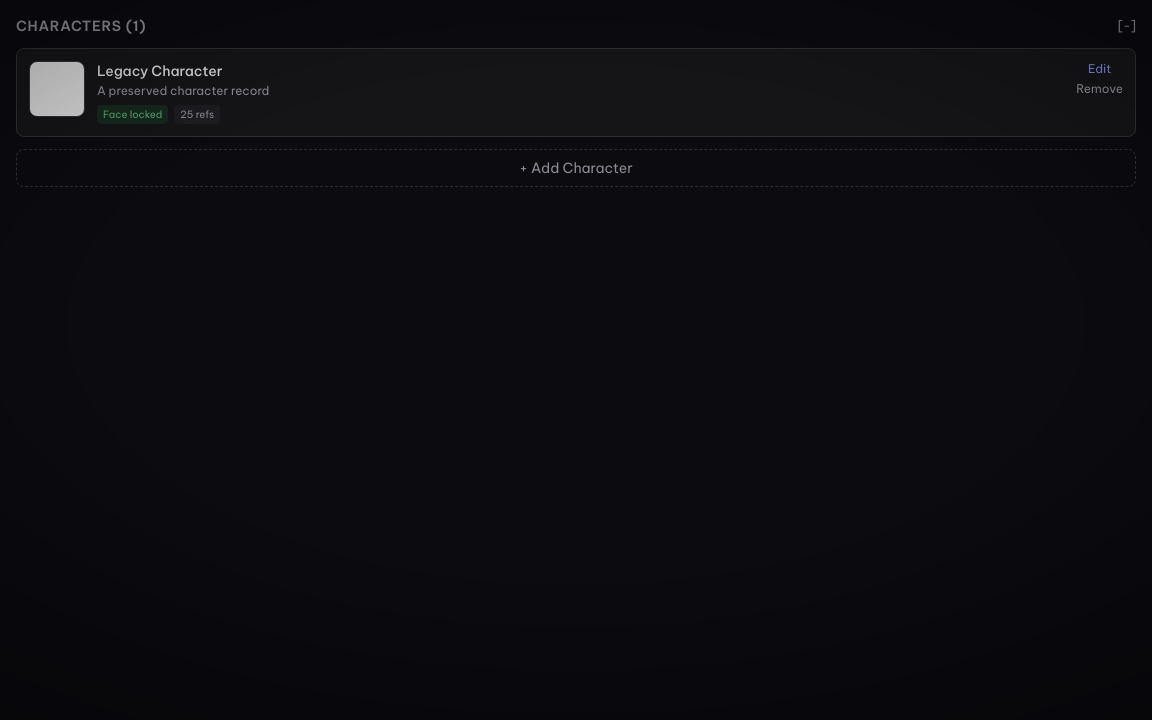
CharacterPanel -- truthful character mutations › surfaces a rejected JSON edit, keeps the editor open, and does not refresh
The image size is (1152, 720).
Click the button "Edit". click: [1100, 69]
box: [1076,61,1123,77]
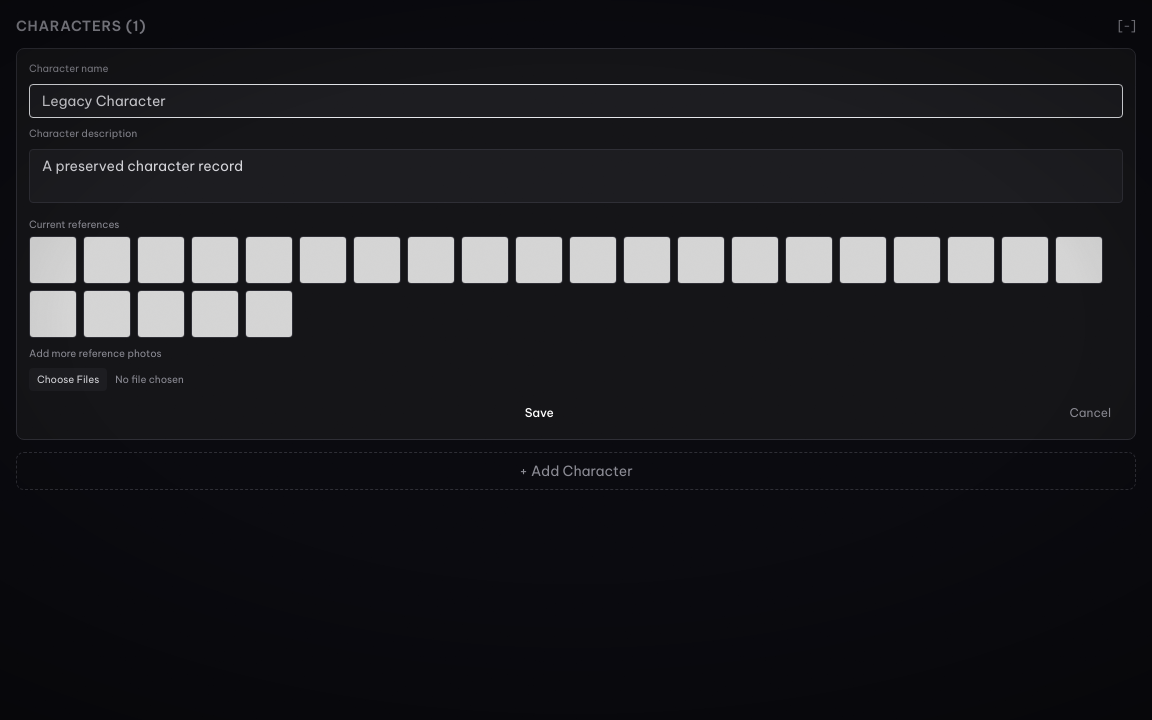
Replace the text in the field showing "Legacy Character" with "Renamed Character". click: [576, 101]
box: [29,84,1123,118]
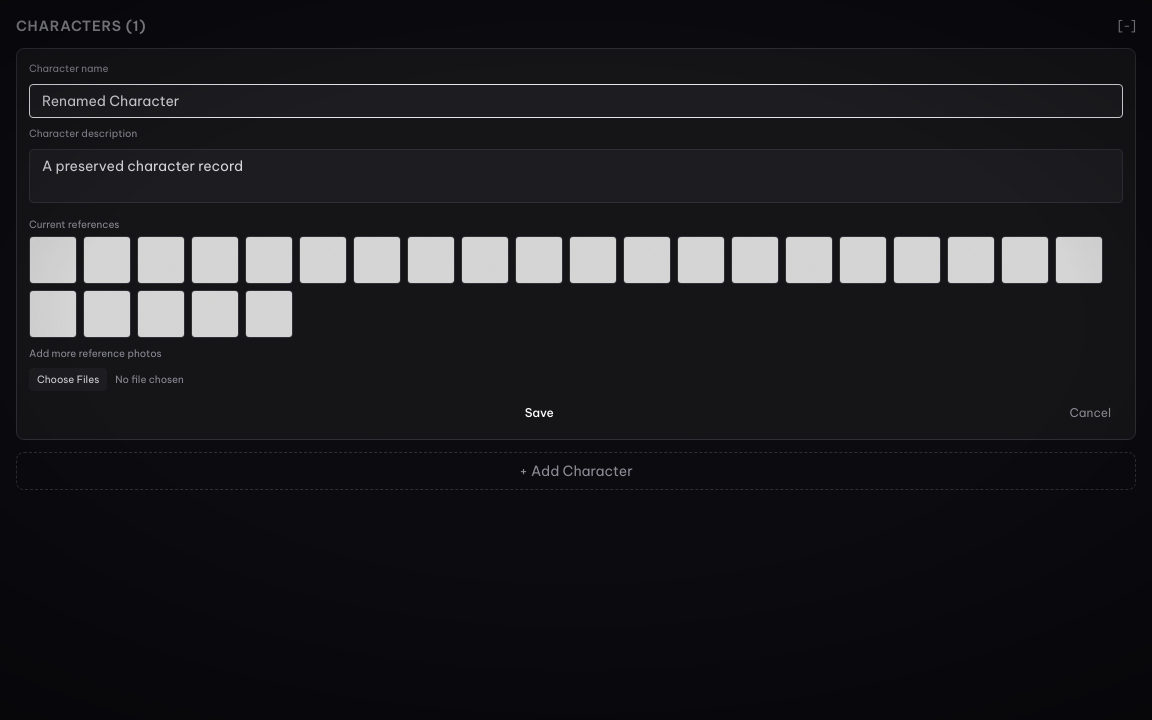
Click the button "Save". click: [539, 413]
box: [29,399,1050,427]
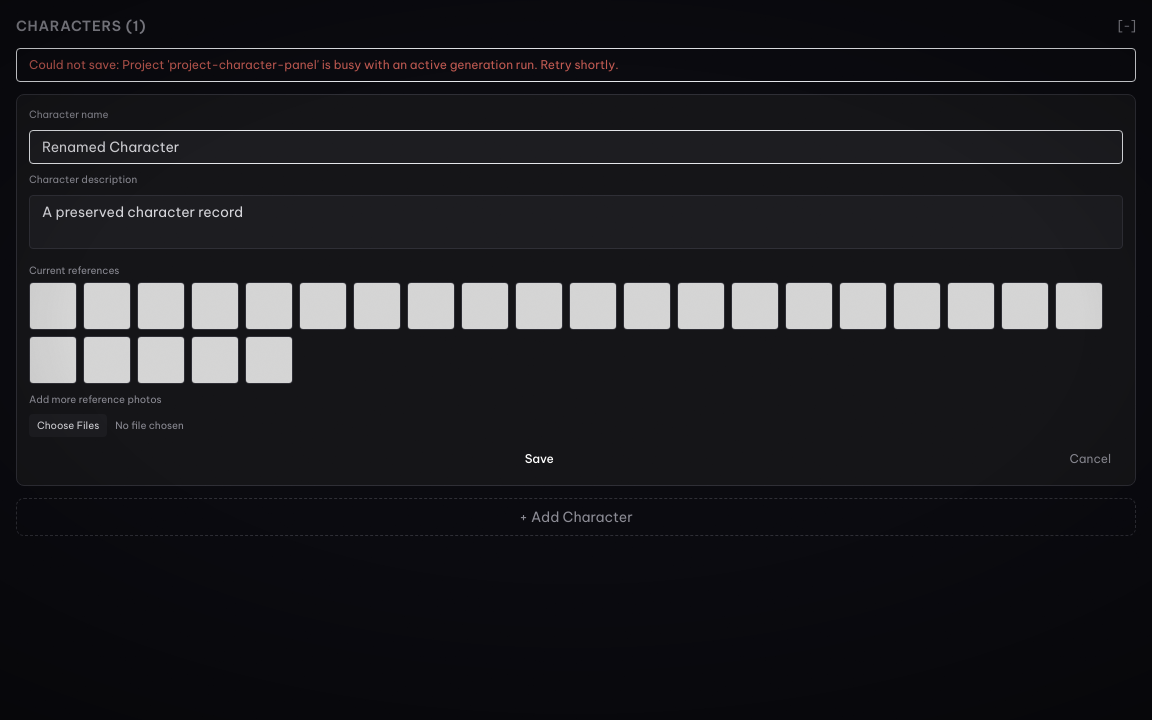
Check: the message shows "is busy with an active generation run", box [122,57,619,72]
